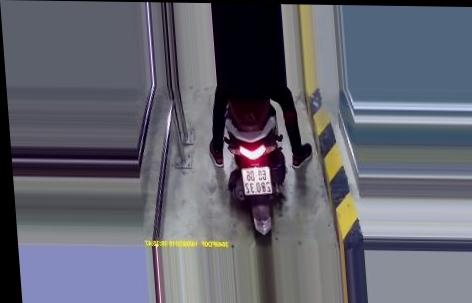License_Plate: (237, 165, 278, 197)
